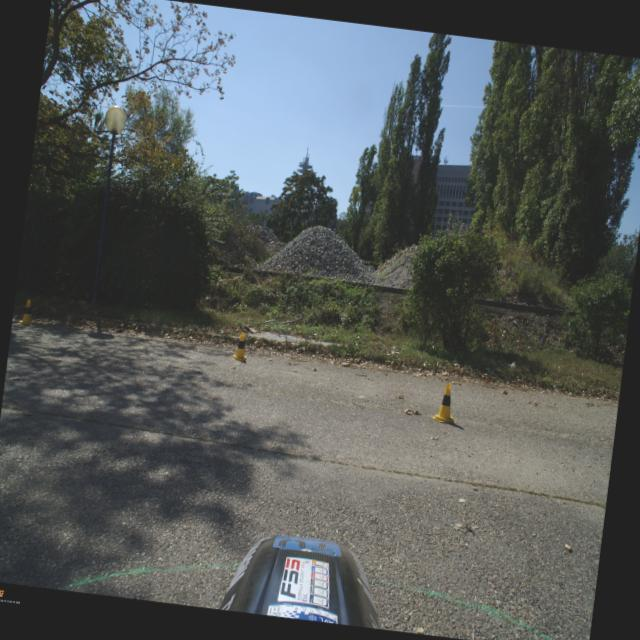yellow_cone: (430, 381, 460, 424), (17, 298, 37, 325), (232, 332, 250, 361)
